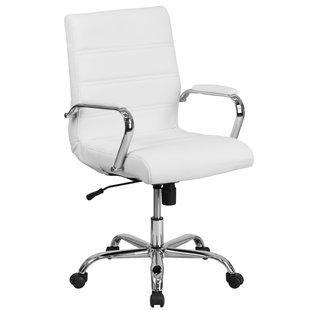chair: (49, 2, 270, 309)
